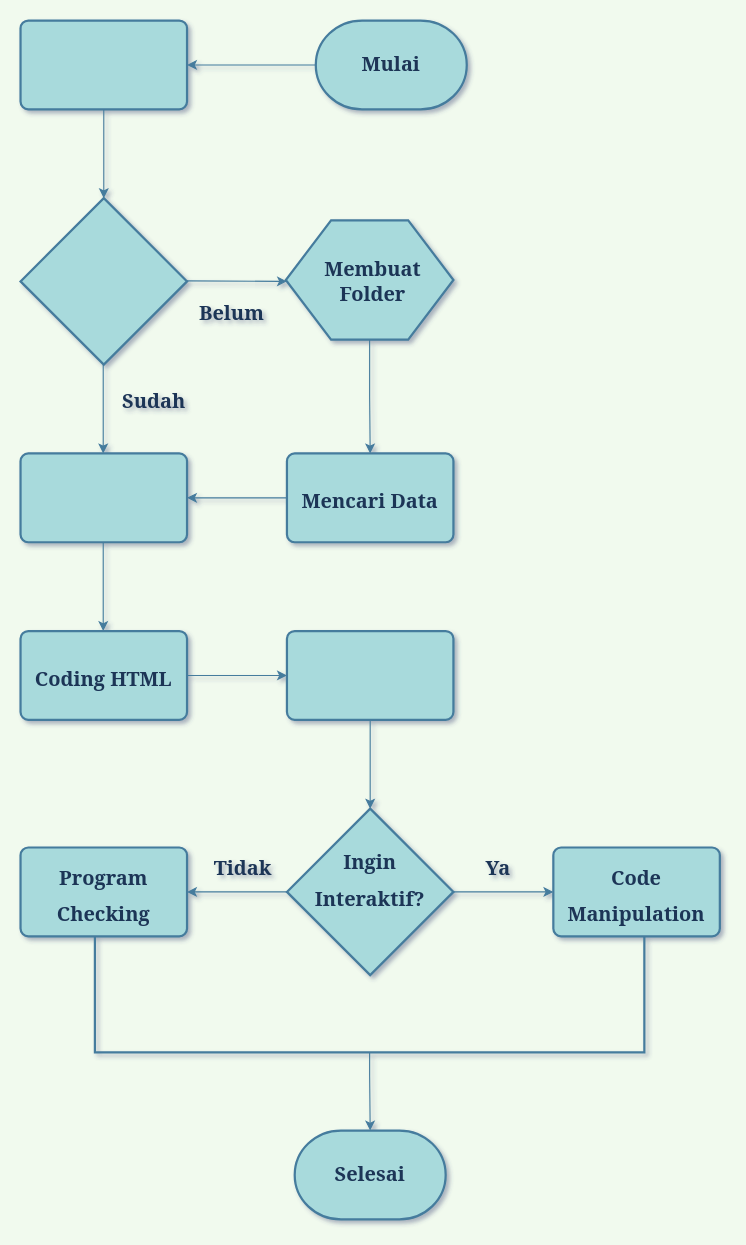
Some shapes in this 746 by 1245 pixel diagram are drawn without their labels. The shapes that lost their labels are listed below. From the top down, each one's centre as x and y in pixels, then its label:
the point at 103,64: Mencari Ide
the point at 103,280: Memiliki Data ?
the point at 103,497: Design & Layouting
the point at 369,674: Style Element
